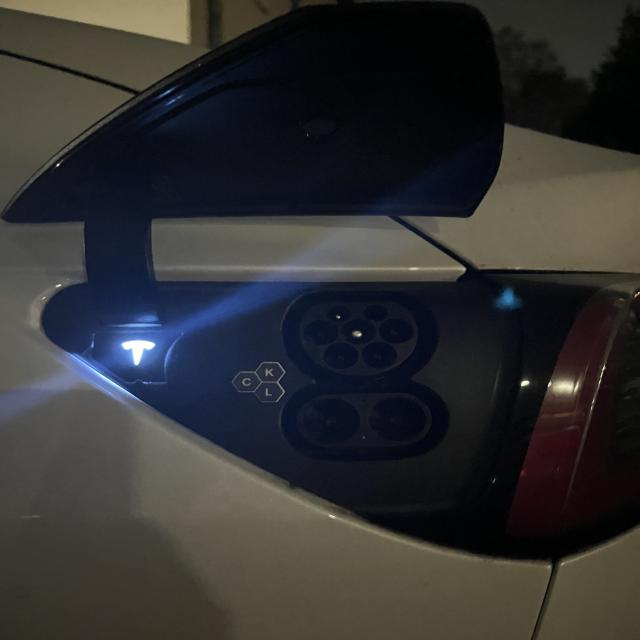inlet: (299, 302, 418, 375)
inlet-above-left: (325, 305, 351, 322)
inlet-above-right: (363, 305, 388, 321)
inlet-below-left: (324, 342, 358, 369)
inlet-below-right: (362, 342, 397, 368)
inlet-circle: (340, 319, 376, 344)
inlet-circle-left: (304, 319, 338, 345)
inlet-circle-right: (379, 318, 414, 343)
inlet-minus: (368, 397, 426, 441)
inlet-plus: (302, 398, 360, 443)
